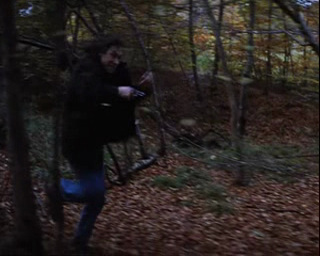face: (99, 45, 124, 73)
ls: (1, 1, 320, 256)
person: (44, 36, 145, 242)
